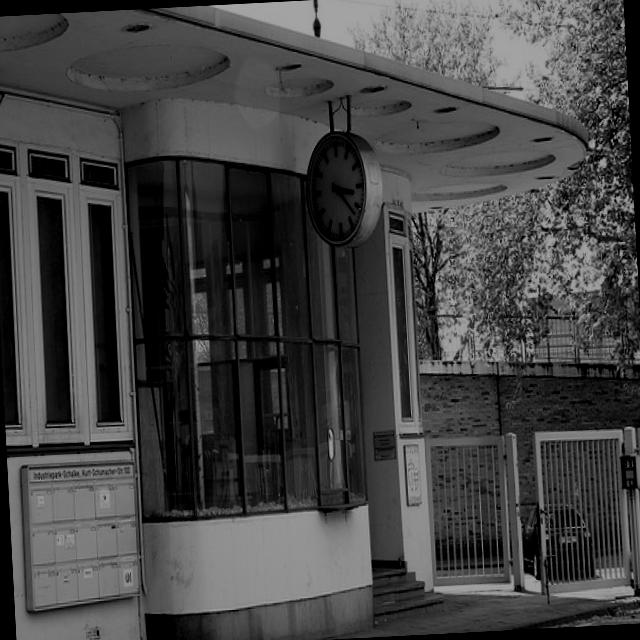Vehicle: (522, 502, 596, 580)
